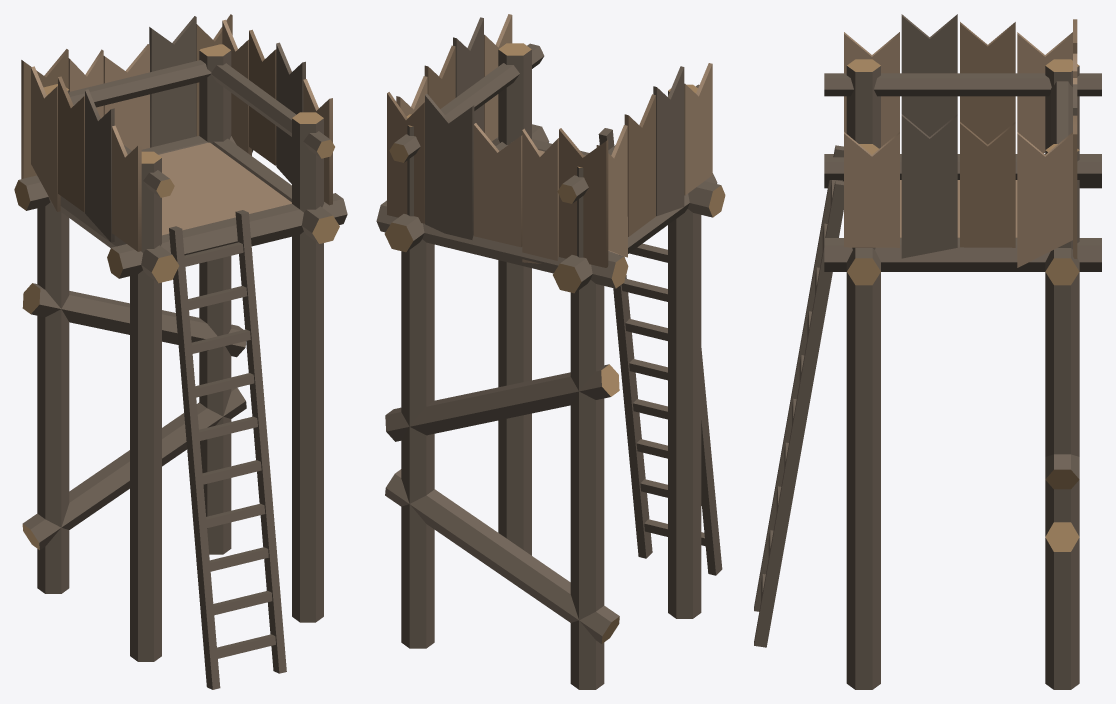
The model's file is army_wood_tower.glb.
3 renders of one model, left to right at view 1: azimuth 30°, elevation 25°; view 2: azimuth 150°, elevation 25°; view 3: azimuth 270°, elevation 25°, orthographic. The views are drawn at different scales.
Parts seen in each view (by area): view 1: pCylinder575; view 2: pCylinder575; view 3: pCylinder575.
Part boxes in pixels (x1,y1,x2,y2): pCylinder575: (14, 14, 347, 689); pCylinder575: (376, 14, 725, 689); pCylinder575: (754, 14, 1101, 689).
Bounding box in the file's own units: 2.75 × 6.31 × 3.44.
